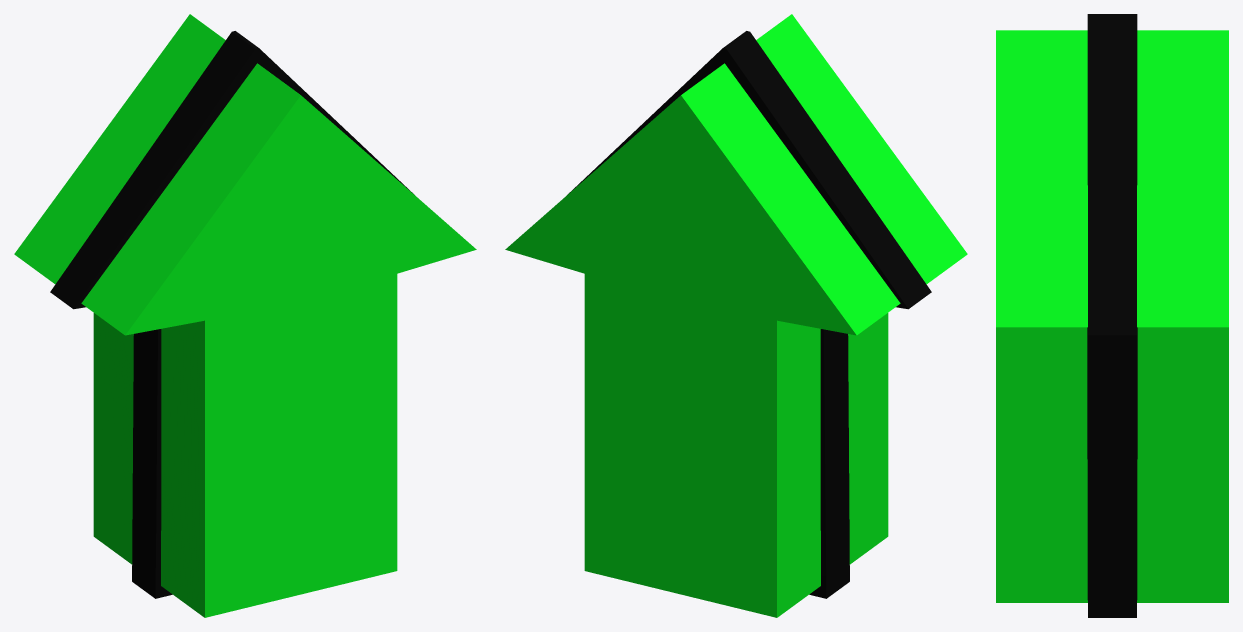
The model's file is ArrowOutline.fbx.
3 views of the same model, side by side, from view 1: azimuth 30°, elevation 25°; view 2: azimuth 150°, elevation 25°; view 3: azimuth 270°, elevation 25° (orthographic). The views are drawn at different scales.
Parts seen in each view (by area): view 1: Arrow, Arrow.001; view 2: Arrow, Arrow.001; view 3: Arrow, Arrow.001.
Part boxes in pixels (x1,y1,x2,y2): Arrow: (14, 14, 476, 617); Arrow.001: (50, 31, 414, 598); Arrow: (505, 14, 967, 617); Arrow.001: (567, 31, 931, 598); Arrow: (996, 30, 1228, 602); Arrow.001: (1087, 14, 1137, 617).
Size of the model in its own units: 382 by 522 by 200.
